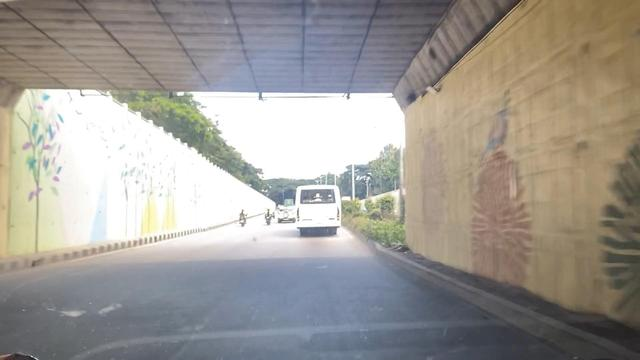HMV: (296, 187, 338, 239)
